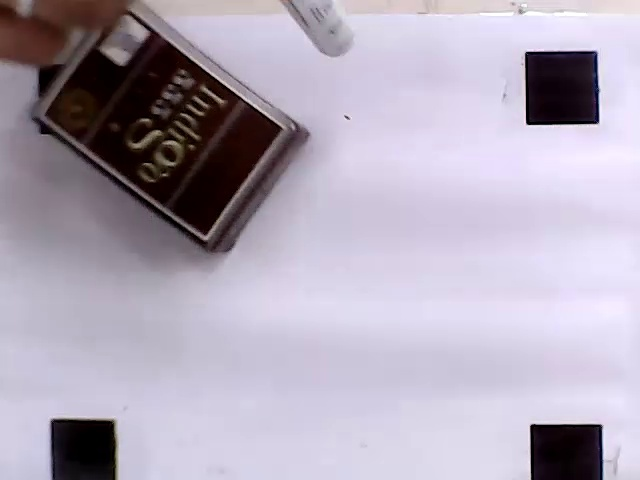BEX: (39, 5, 285, 237)
